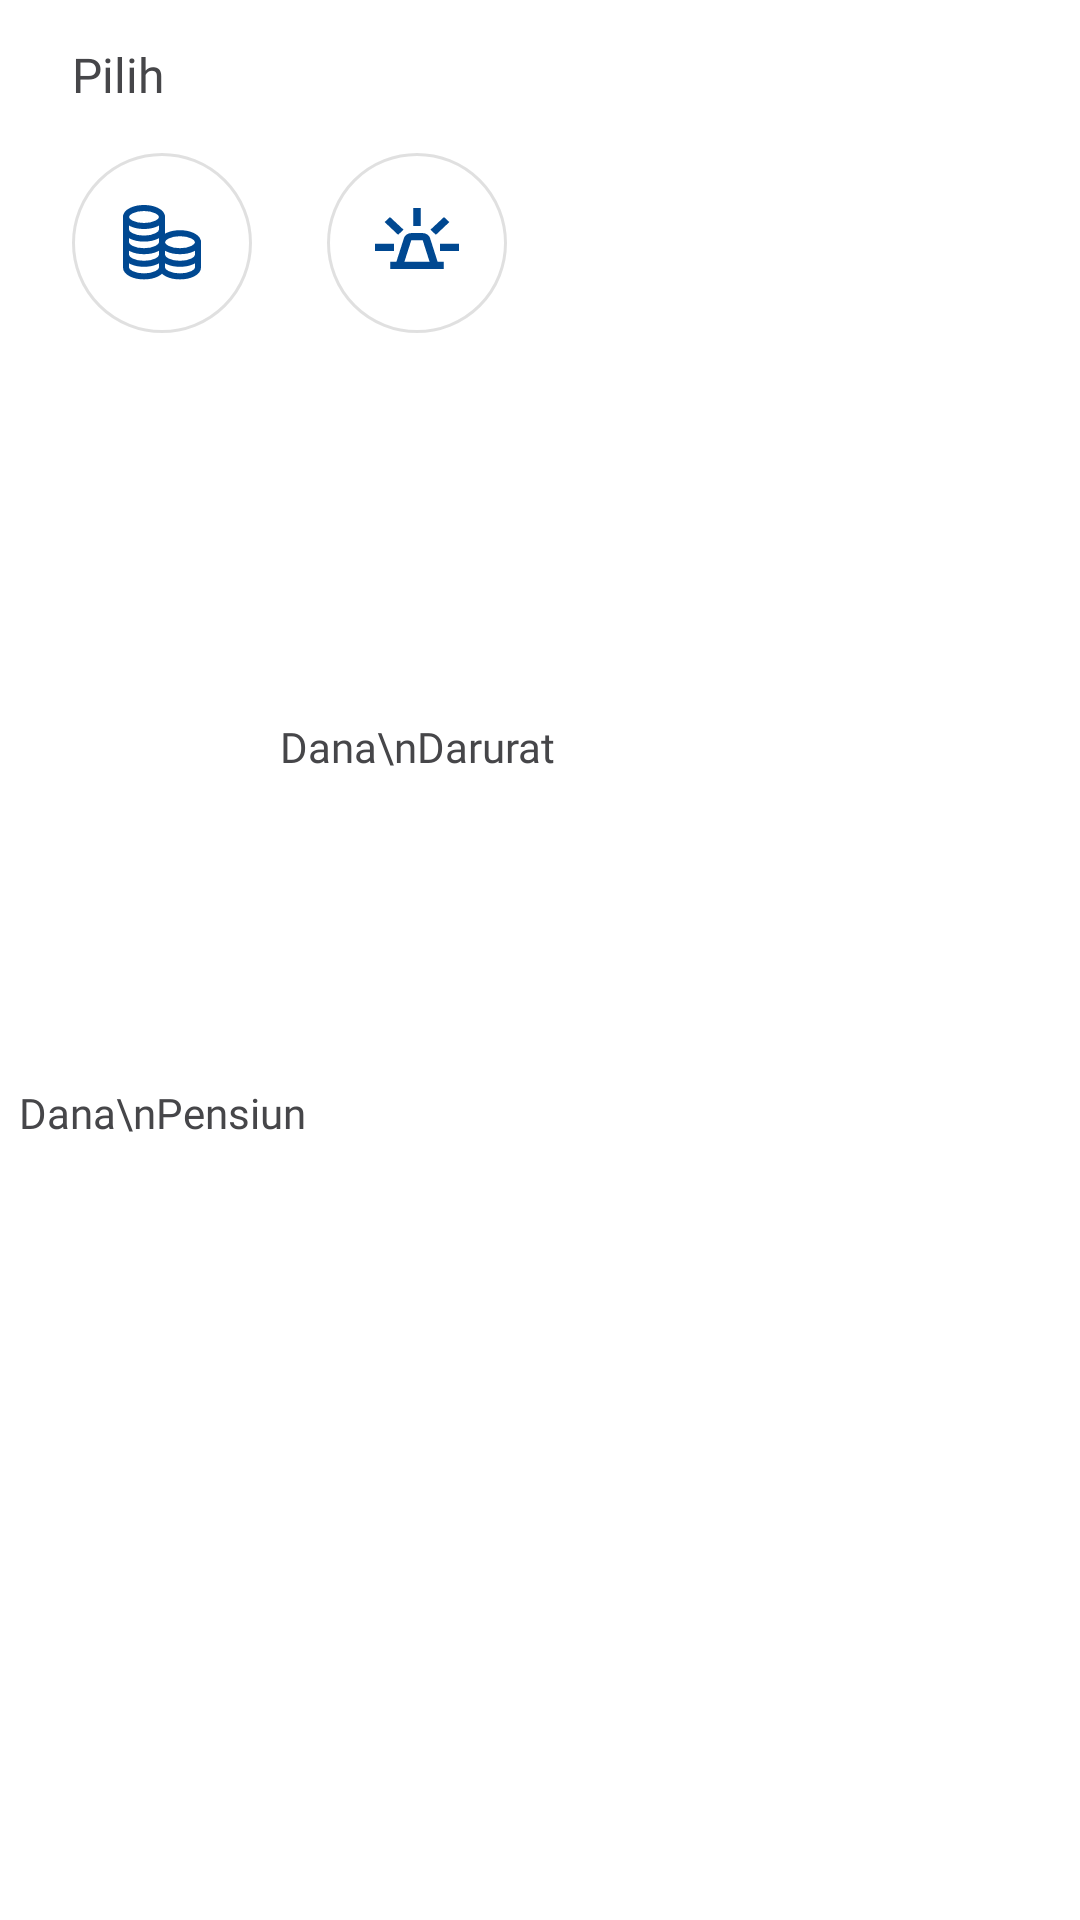

Point at icon controls on the screen. Image size 1080px×1920px, points as (x,y).
emergency: (417,243)
retirement: (162,243)
